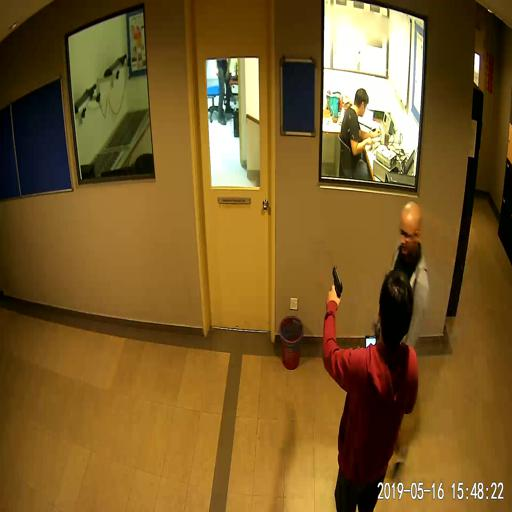pistol: (328, 266, 343, 301)
